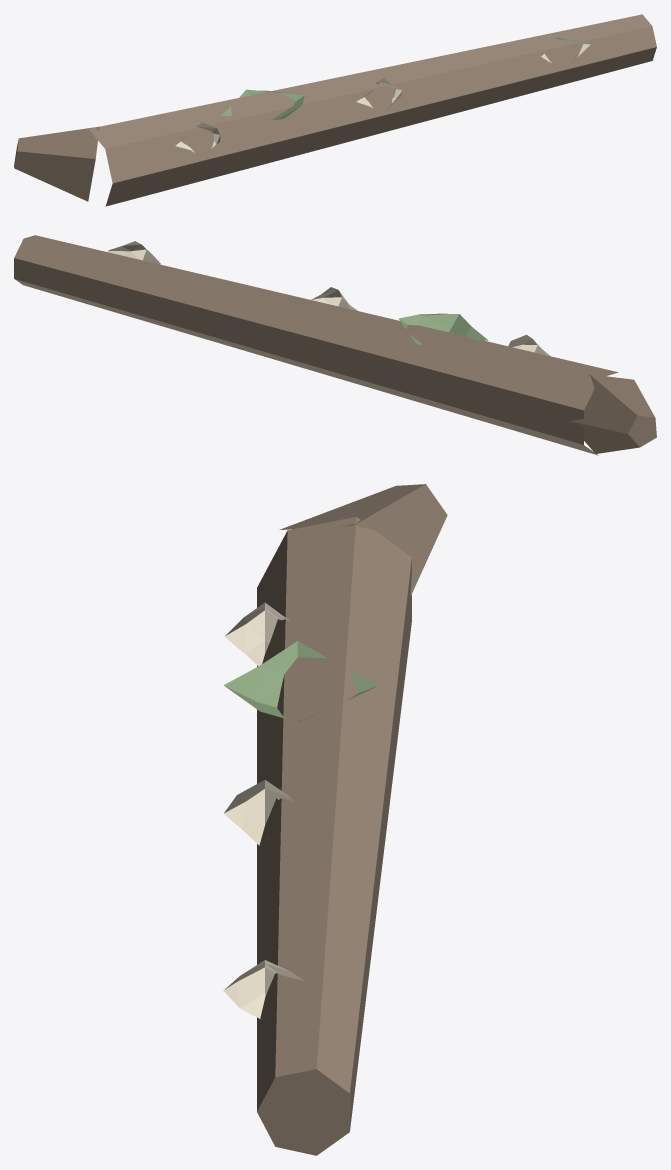
Rendered from log_v16.glb.
3 renders of one model, top to bottom at view 1: azimuth 30°, elevation 25°; view 2: azimuth 150°, elevation 25°; view 3: azimuth 270°, elevation 25°, orthographic. The views are drawn at different scales.
Visible parts, largest first — view 1: lod0; view 2: lod0; view 3: lod0.
Boxes of the visible parts, left/top/right/bottom form: lod0: left=14, top=14, right=656, bottom=206; lod0: left=14, top=235, right=656, bottom=455; lod0: left=223, top=484, right=447, bottom=1155.
Size of what is drawn, in the model's own units: 3.44 by 0.4402 by 0.5501.
